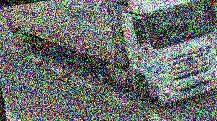truck: (3, 0, 217, 121)
